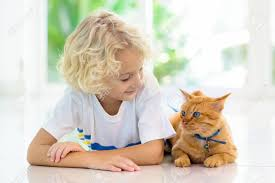cat: (175, 90, 230, 137)
person: (65, 13, 152, 106)
